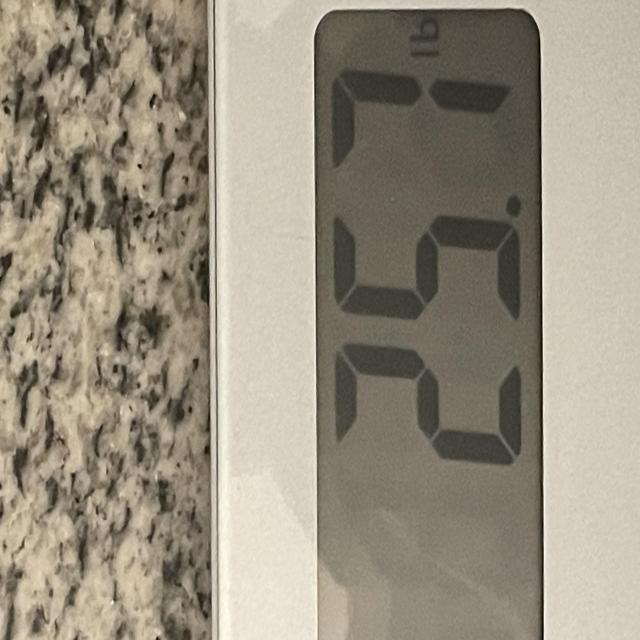ws: (210, 0, 547, 640)
